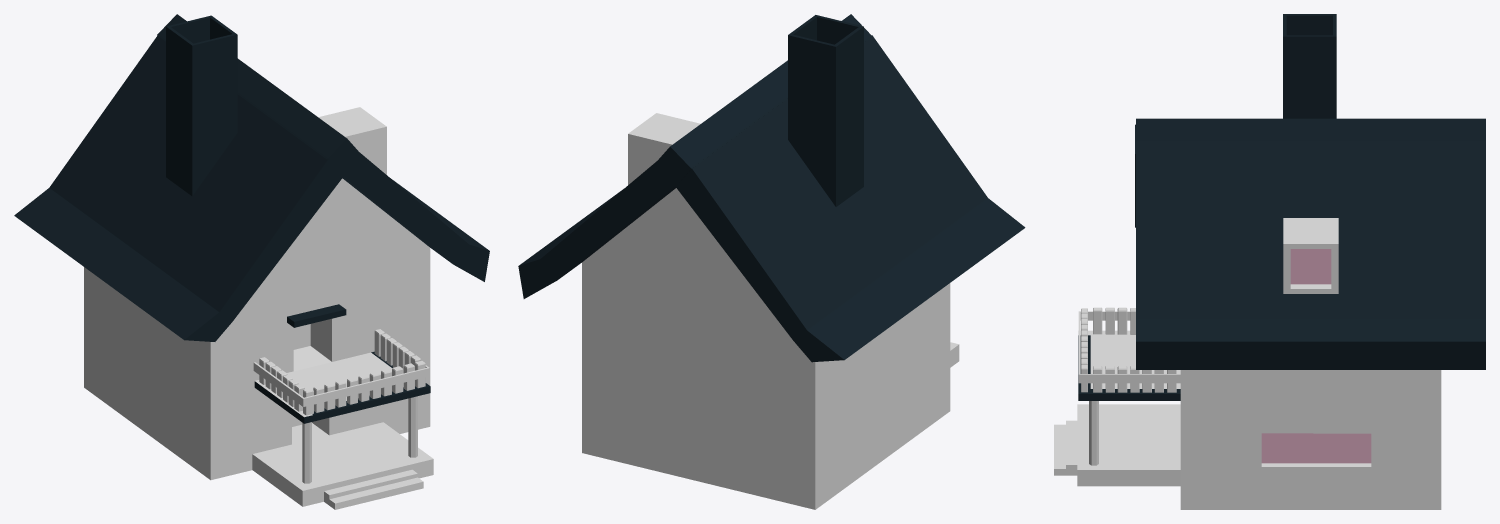
The model's file is blkhouse.dae.
3 renders of one model, left to right at view 1: azimuth 30°, elevation 25°; view 2: azimuth 150°, elevation 25°; view 3: azimuth 270°, elevation 25°, orthographic. The views are drawn at different scales.
Visible parts, largest first — view 1: Cube_001; view 2: Cube_001; view 3: Cube_001.
Boxes of the visible parts, x1,y1,x2,y2 form: Cube_001: [14, 14, 489, 509]; Cube_001: [518, 14, 1025, 509]; Cube_001: [1054, 14, 1485, 509].
Size of the model in its own units: 11.28 by 13.39 by 13.74.
